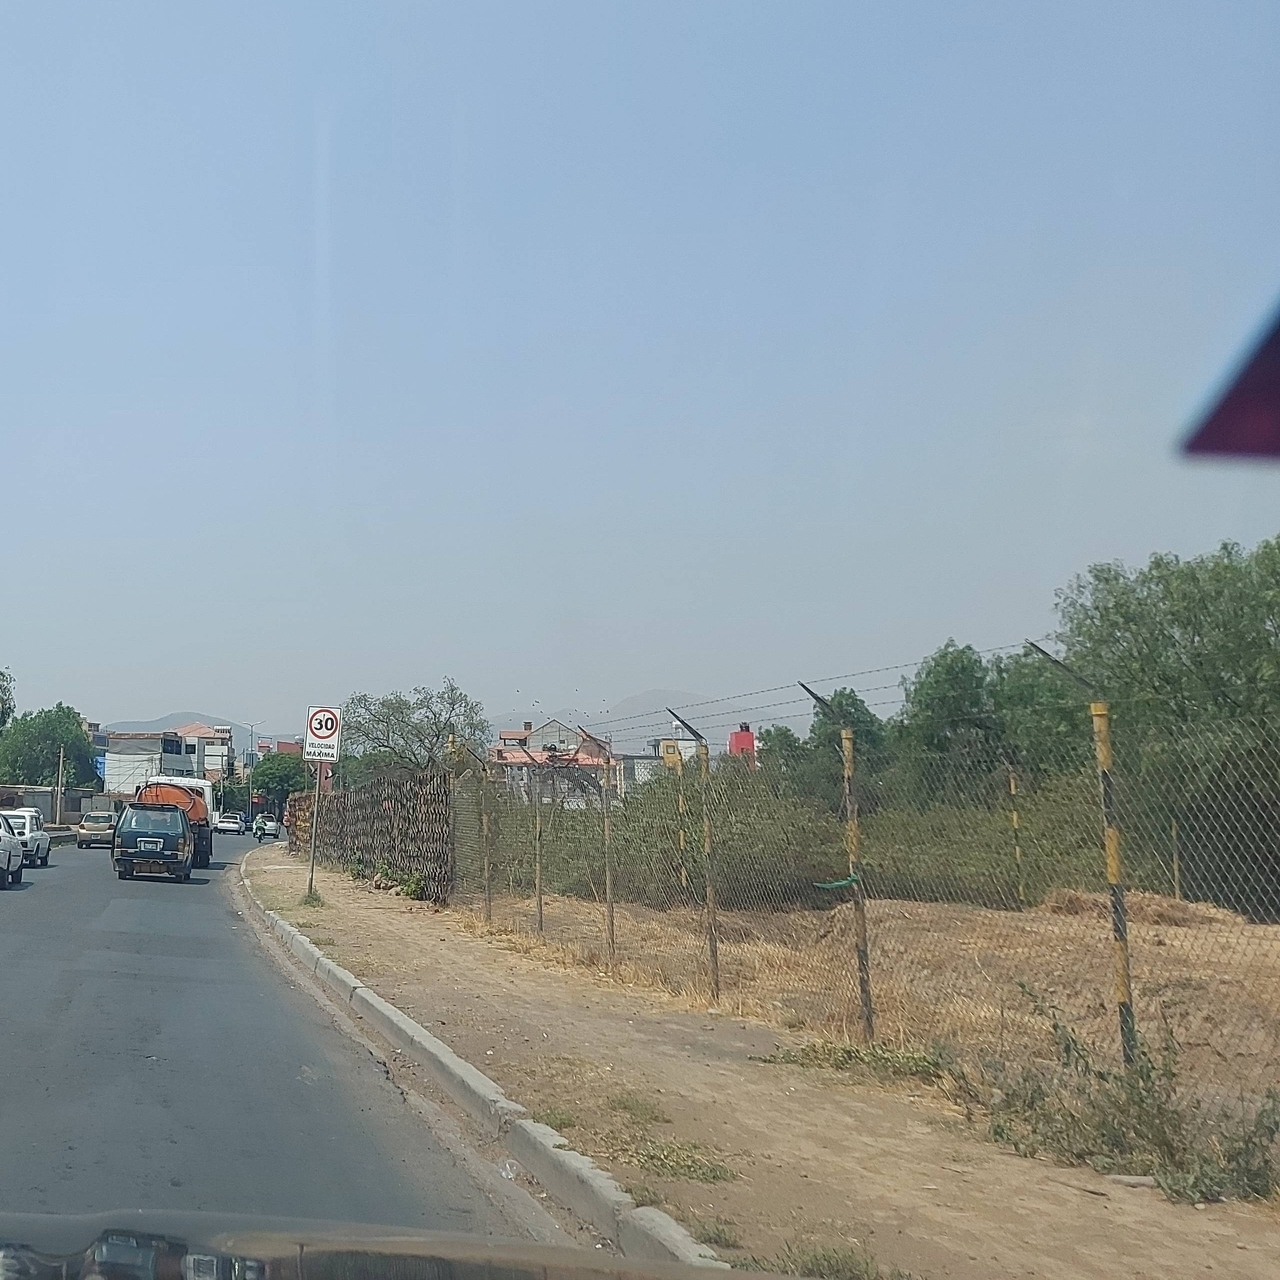limite-velocidad-30: (304, 704, 342, 763)
